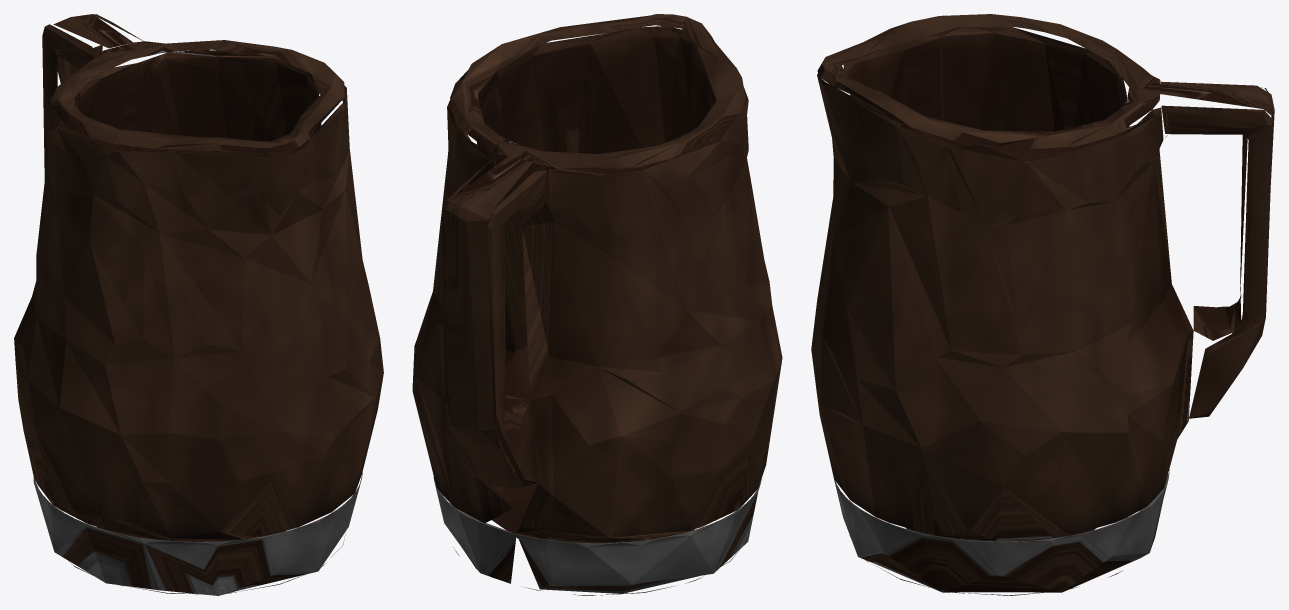
The model's file is kitchenware_jug_h01.glb.
3 views of the same model, side by side, from view 1: azimuth 30°, elevation 25°; view 2: azimuth 150°, elevation 25°; view 3: azimuth 270°, elevation 25° (orthographic). The views are drawn at different scales.
Visible parts, largest first — view 1: geometry_0; view 2: geometry_0; view 3: geometry_0.
Boxes of the visible parts, x1,y1,x2,y2 form: geometry_0: (14, 14, 383, 595); geometry_0: (412, 14, 782, 595); geometry_0: (811, 14, 1274, 595).
Size of the model in its own units: 0.3065 by 0.42 by 0.3764.
Materials: 1 (1 with a texture image).
